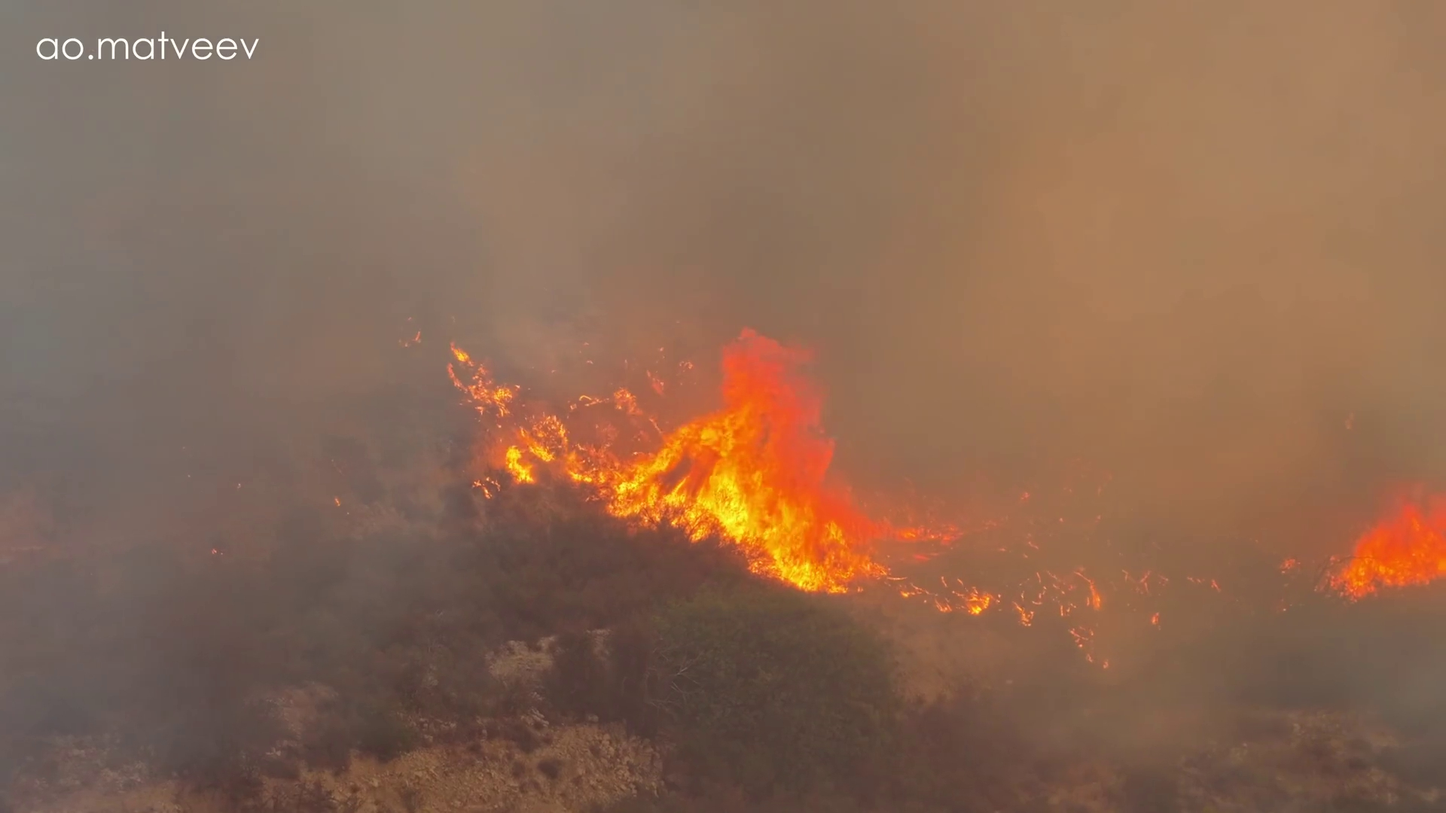forest_fire: (448, 330, 948, 592), (1326, 505, 1445, 598), (903, 586, 999, 614)
